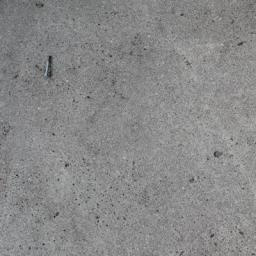FOD: (42, 56, 56, 83)
